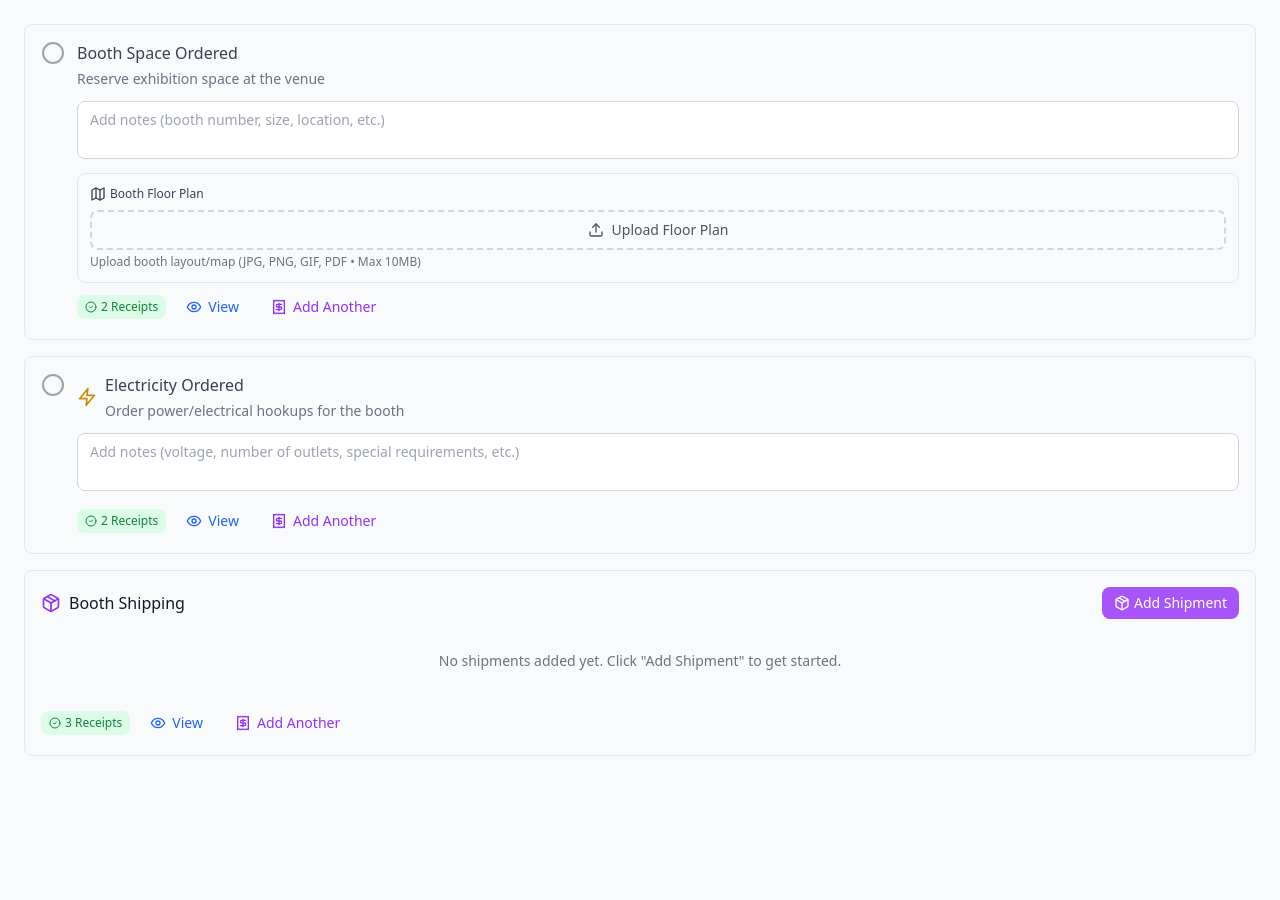
Scenario: Receipt Filtering Tests › All Three Sections Work Properly › should filter receipts correctly for all three sections
// Test booth section (first View button)
Click the button titled "View receipt" below "Booth Floor Plan". click: (213, 307)
box: [174, 291, 251, 323]
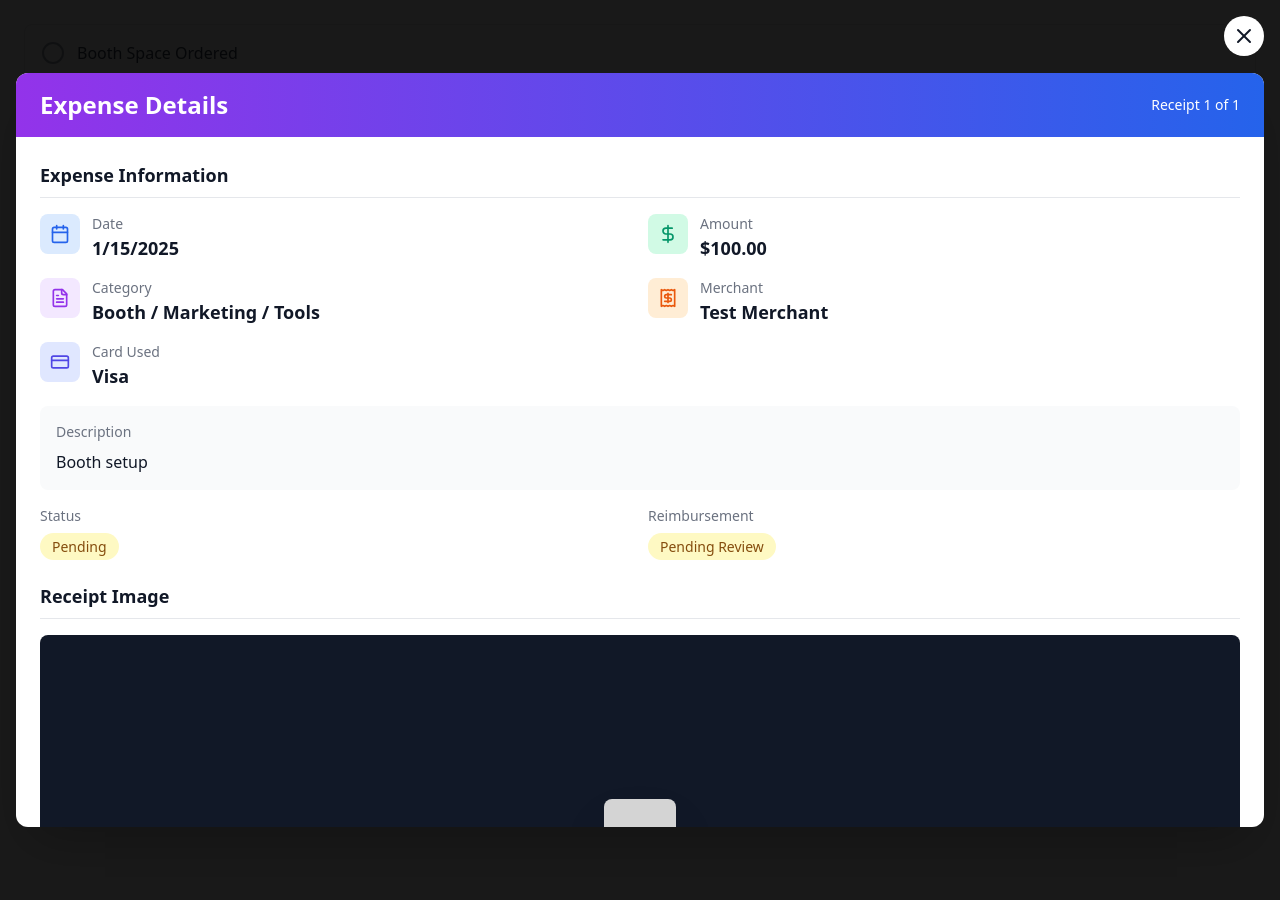
Now the text "Receipt 1 of 1" is shown, box [1151, 95, 1240, 115]
// Close modal
Click the button titled "Close (Esc)". click: (1244, 36)
box: [1224, 16, 1264, 56]
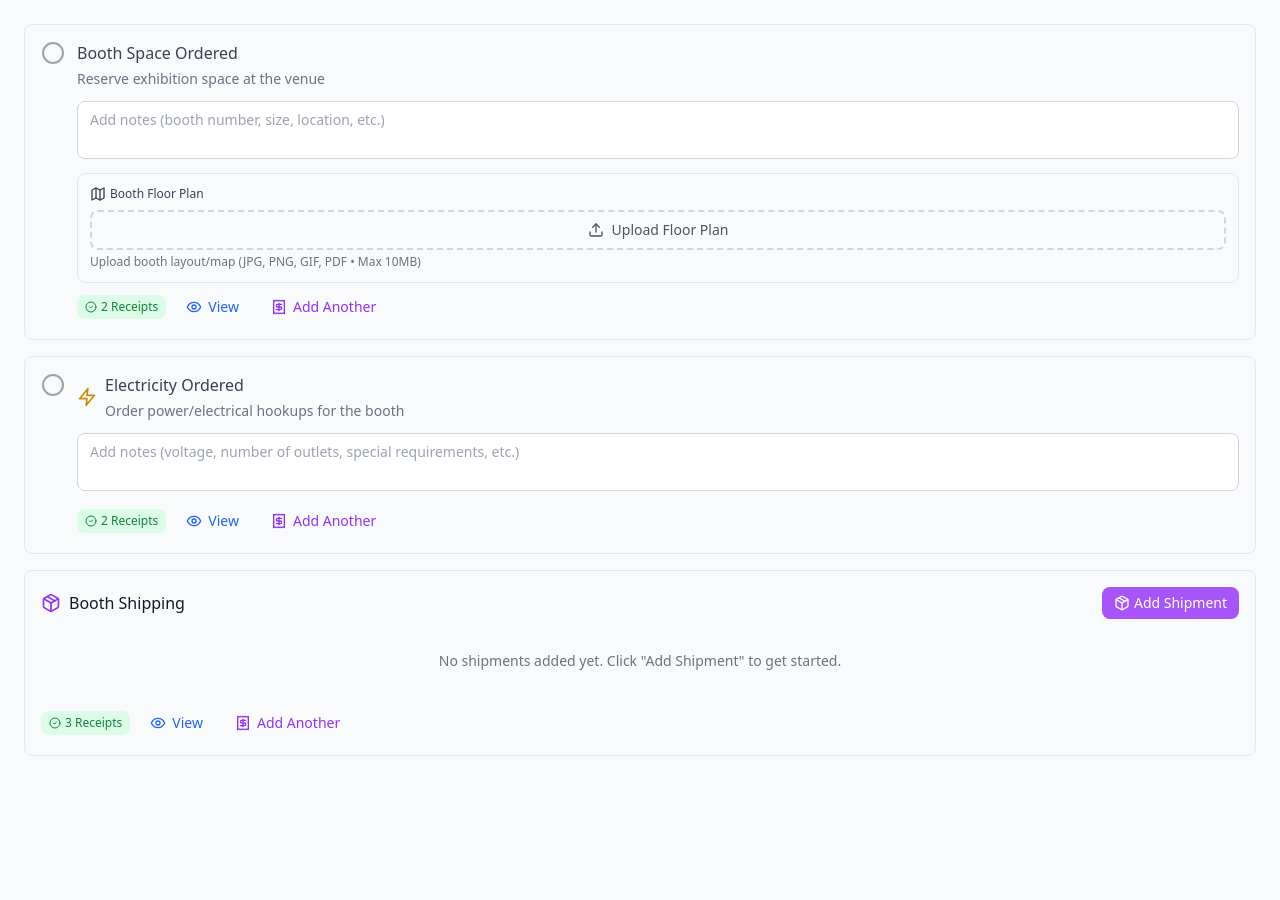
Now the text "Receipt 1 of 1" is gone
// Test electricity section (second View button)
Click the 2nd button titled "View receipt". click: (213, 521)
box: [174, 505, 251, 537]
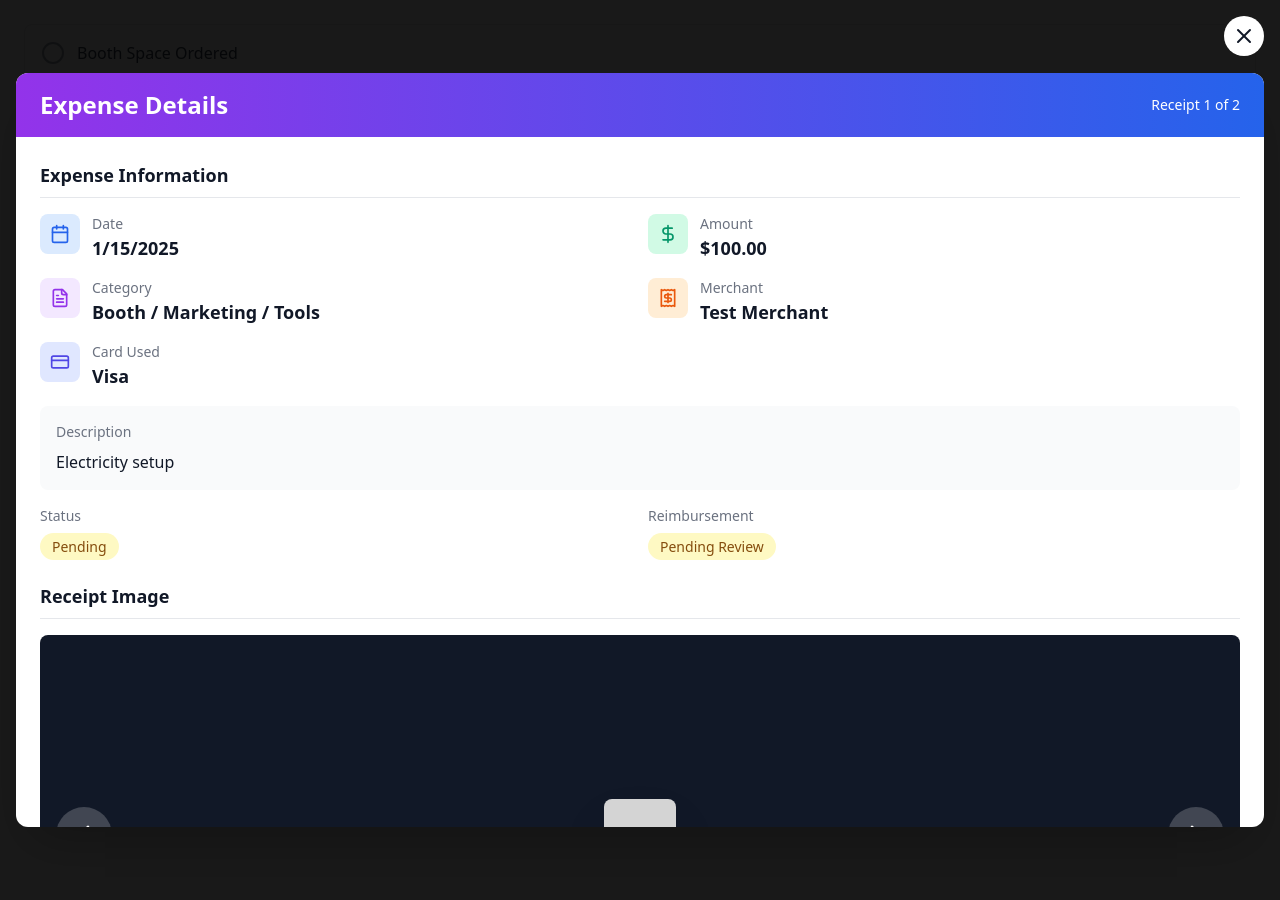
Now the text "Receipt 1 of 2" is shown, box [1151, 95, 1240, 115]
// Close modal
Click the button titled "Close (Esc)". click: (1244, 36)
box: [1224, 16, 1264, 56]
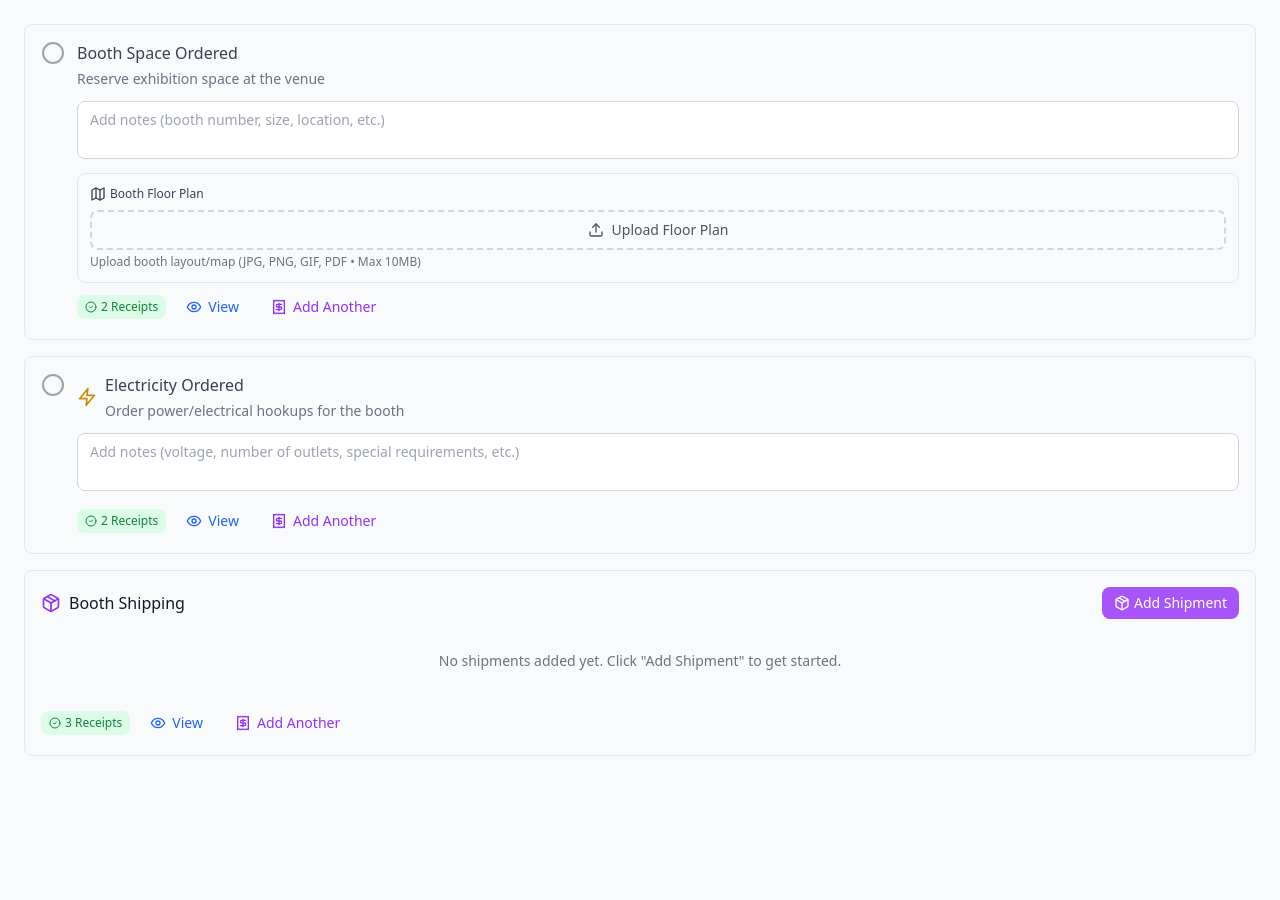
Now the text "Receipt 1 of 2" is gone
// Test booth shipping section (third View button)
Click the button titled "View receipt" below "Booth Shipping". click: (177, 723)
box: [138, 707, 215, 739]
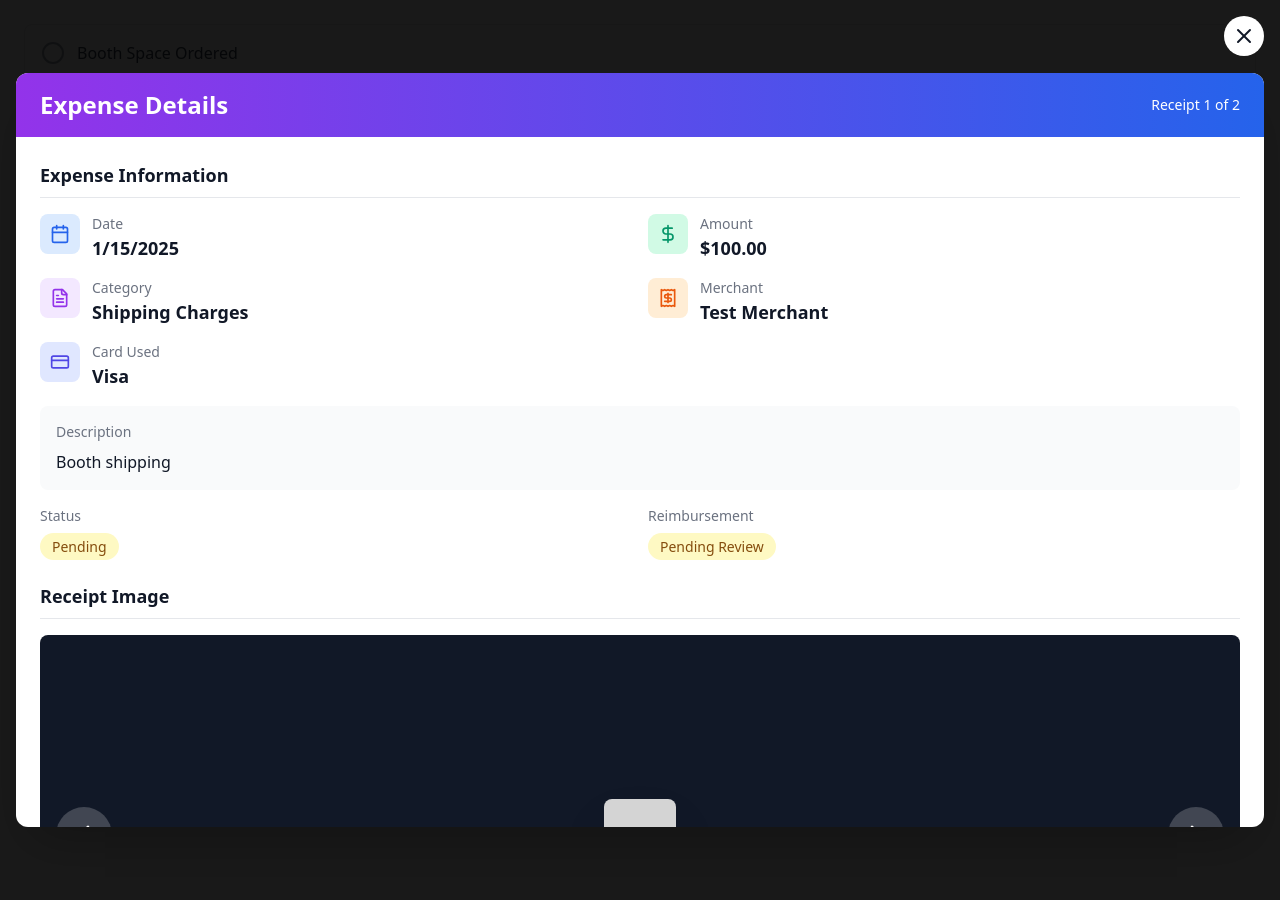
Now the text "Receipt 1 of 2" is shown, box [1151, 95, 1240, 115]
